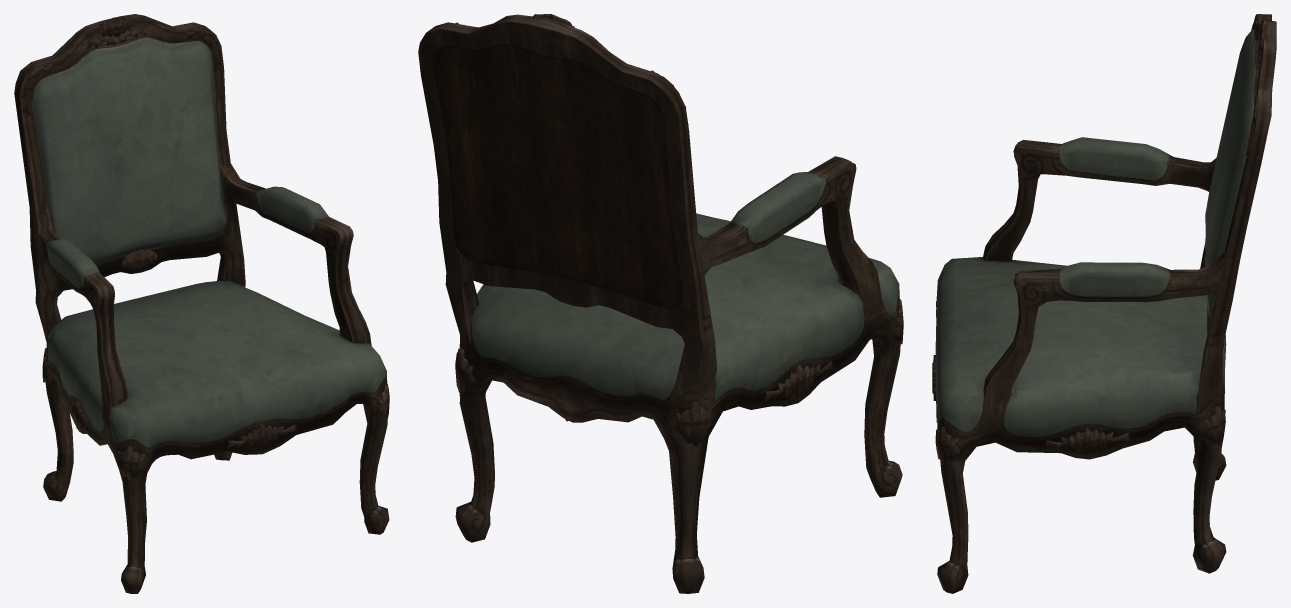
File: GreenChair_01.glb
3 views of the same model, side by side, from view 1: azimuth 30°, elevation 25°; view 2: azimuth 150°, elevation 25°; view 3: azimuth 270°, elevation 25° (orthographic). The views are drawn at different scales.
Visible parts, largest first — view 1: GreenChair_01; view 2: GreenChair_01; view 3: GreenChair_01.
Boxes of the visible parts, bbox=[...] form: GreenChair_01: bbox=[14, 14, 389, 593]; GreenChair_01: bbox=[418, 14, 903, 593]; GreenChair_01: bbox=[932, 14, 1276, 593].
Size of the model in its own units: 0.6726 by 1.06 by 0.6644.
1 material, 1 textured.
